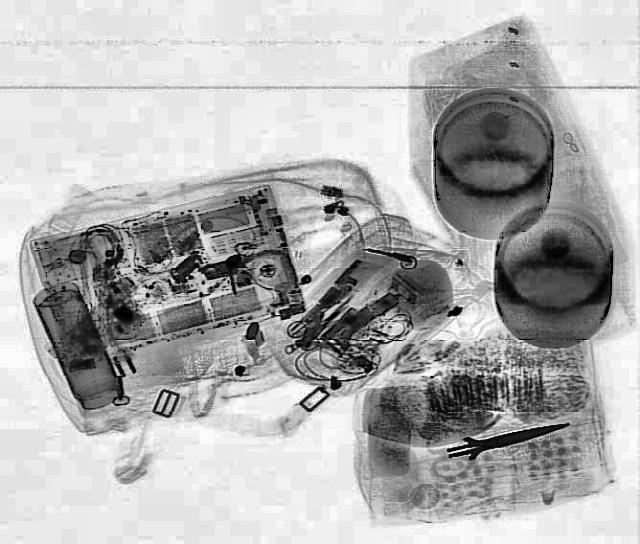Knife: (442, 412, 572, 464)
